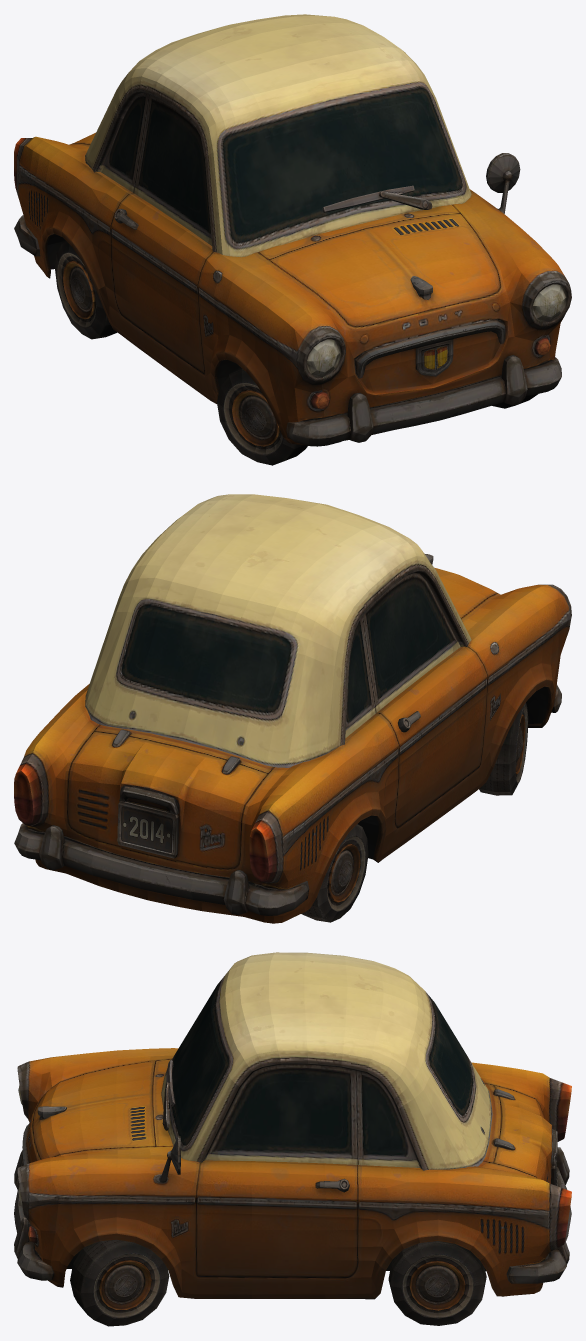
File: Pony_cartoon.obj
3 views of the same model, one above another, from view 1: azimuth 30°, elevation 25°; view 2: azimuth 150°, elevation 25°; view 3: azimuth 270°, elevation 25° (orthographic). The views are drawn at different scales.
Visible parts, largest first — view 1: Pony_cartoon; view 2: Pony_cartoon; view 3: Pony_cartoon.
Boxes of the visible parts, x1,y1,x2,y2 form: Pony_cartoon: [14, 14, 571, 465]; Pony_cartoon: [14, 494, 571, 923]; Pony_cartoon: [14, 952, 571, 1326].
Size of the model in its own units: 403 by 375 by 665.
3 materials, 3 textured.
